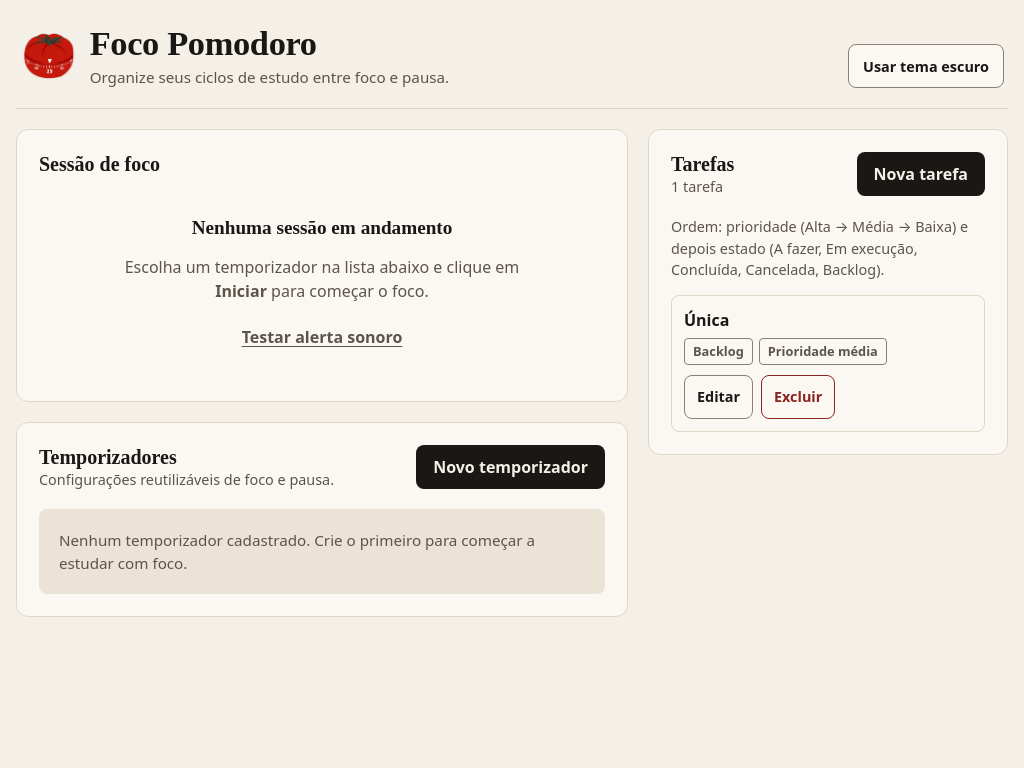
painel de tarefas (RF-15 a RF-19, RN-10, RN-12) › exclusão de tarefa exige confirmação
Click the button with aria-label "Excluir tarefa: Única": (798, 397) [761,375,835,419]
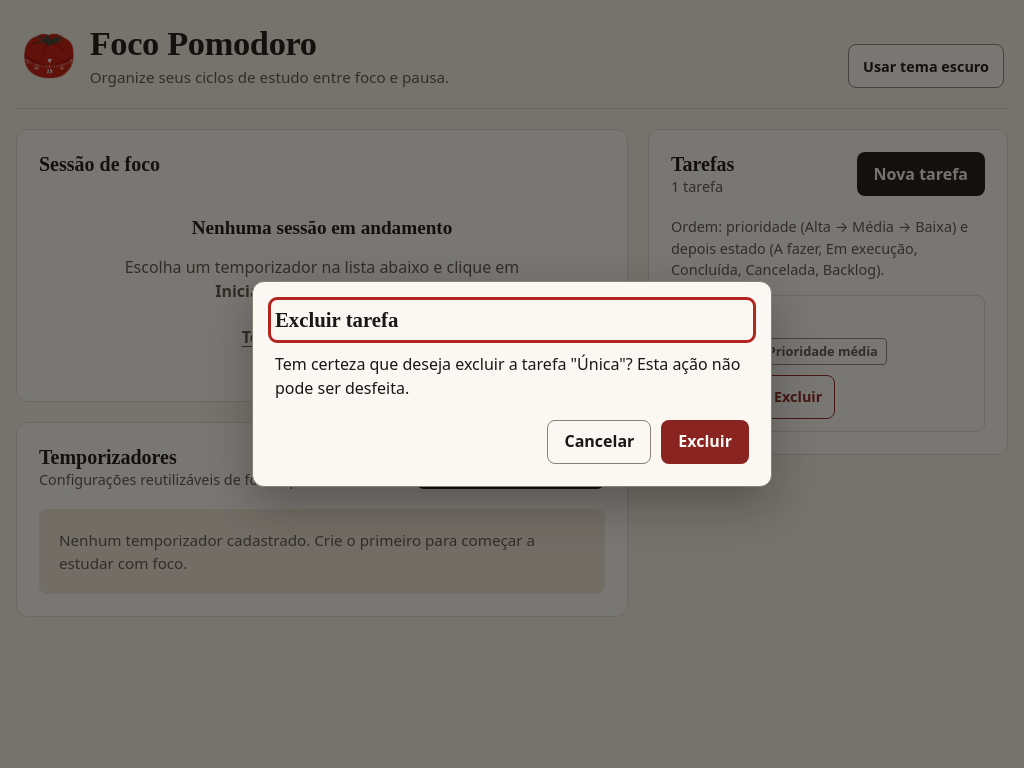
Click the button "Cancelar": (599, 442) [548,420,651,464]
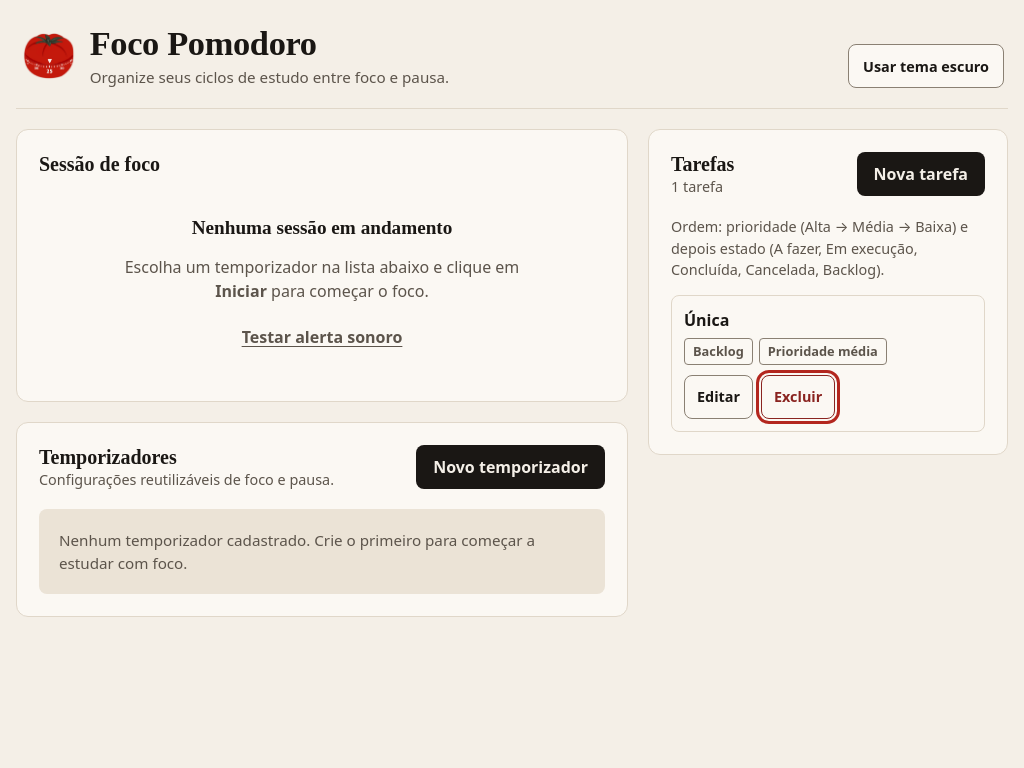
Expected: the text "Única" is shown, [684,309,729,331]
Click the button with aria-label "Excluir tarefa: Única": (798, 397) [761,375,835,419]
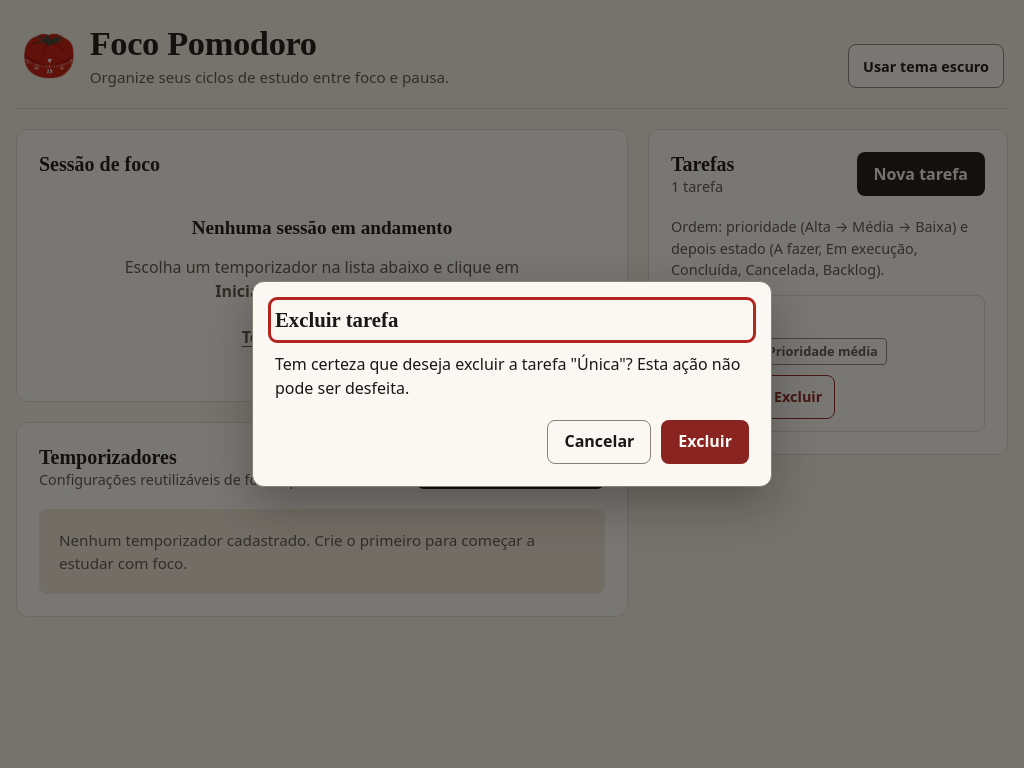
Click the button "Excluir": (705, 442) [661,420,749,464]
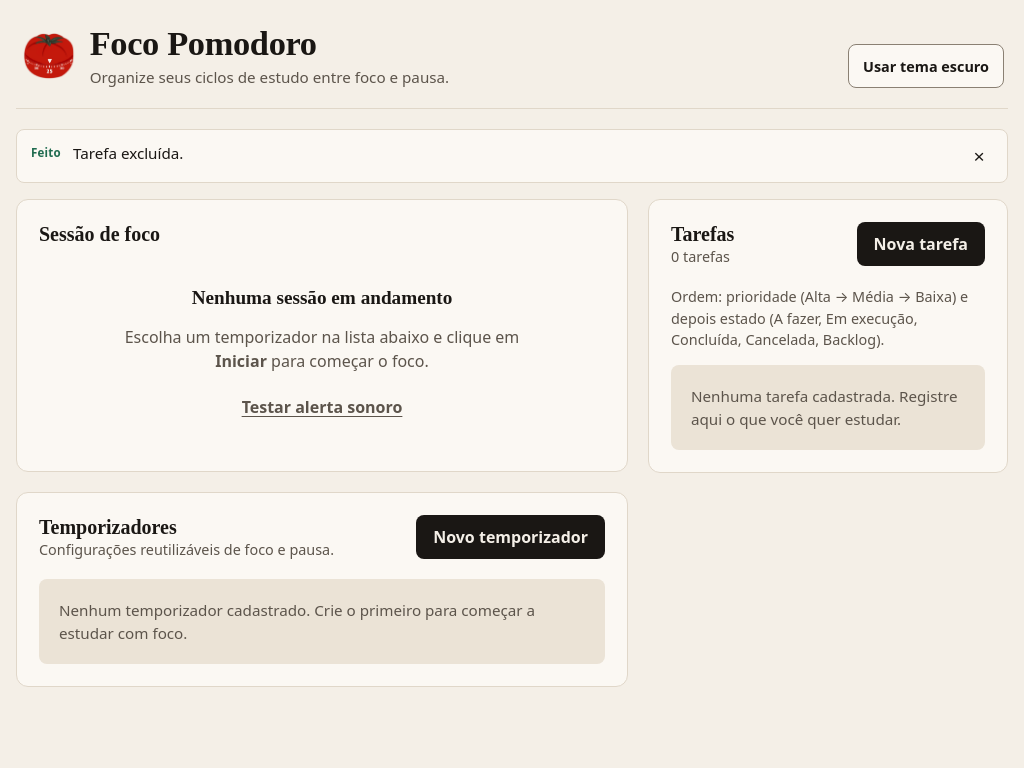
Result: the text "Única" is gone
